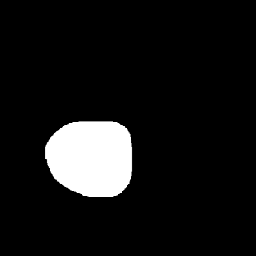mass: (45, 122, 134, 195)
